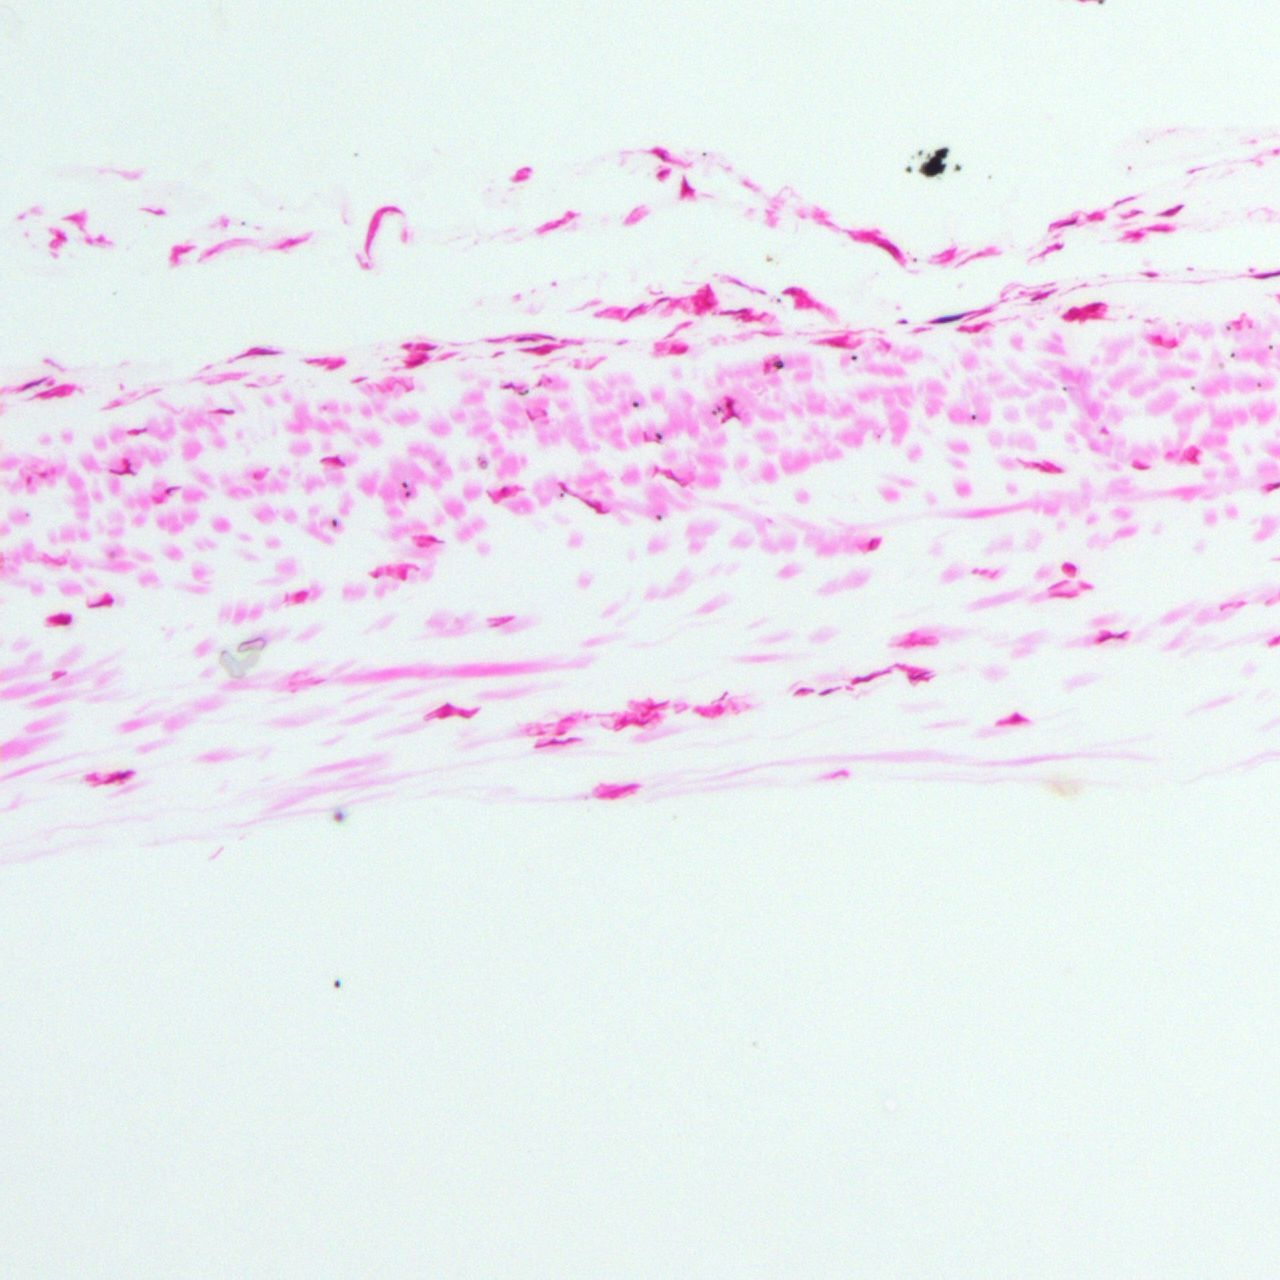dust: (914, 141, 956, 183), (332, 811, 348, 824), (772, 360, 784, 368), (333, 979, 342, 988), (655, 431, 663, 440), (332, 518, 339, 527), (905, 166, 913, 173), (971, 414, 978, 421), (955, 164, 962, 171), (631, 401, 639, 407), (1228, 352, 1235, 358), (402, 482, 408, 488), (656, 515, 662, 520), (910, 154, 915, 159), (912, 256, 917, 263), (1268, 343, 1273, 350), (918, 150, 922, 157), (406, 491, 410, 497), (712, 410, 717, 415), (776, 297, 781, 302), (851, 354, 857, 359), (1226, 325, 1231, 331), (1190, 384, 1194, 390), (1062, 386, 1067, 392), (877, 434, 881, 440), (716, 406, 721, 410), (1257, 381, 1261, 386), (926, 152, 930, 157), (560, 492, 564, 496), (702, 152, 706, 155)
nucleus-FG: (554, 478, 610, 516), (535, 733, 584, 749), (424, 703, 477, 719), (652, 463, 686, 486), (600, 781, 640, 801), (849, 668, 890, 686), (94, 769, 134, 787), (236, 343, 279, 359), (520, 342, 561, 358), (721, 397, 742, 425), (1024, 459, 1065, 474), (994, 712, 1032, 727), (877, 236, 901, 258), (304, 358, 346, 370), (277, 233, 307, 251), (38, 382, 64, 401), (641, 699, 669, 716), (1158, 203, 1186, 220), (908, 668, 935, 686), (20, 375, 48, 392), (1097, 629, 1128, 644), (614, 719, 649, 730), (622, 302, 642, 322), (679, 176, 695, 198), (87, 597, 115, 610), (109, 463, 137, 476), (1046, 578, 1071, 592), (1054, 217, 1078, 231), (1112, 193, 1137, 207), (933, 313, 964, 324), (1029, 290, 1054, 302), (45, 613, 72, 625), (956, 324, 989, 333), (320, 456, 347, 467), (702, 282, 713, 309), (719, 307, 748, 316), (818, 685, 839, 697), (651, 145, 668, 161), (1062, 561, 1077, 579), (821, 338, 849, 347), (794, 685, 813, 697), (1084, 300, 1104, 313), (403, 359, 425, 369), (865, 536, 880, 551), (655, 166, 670, 181), (1049, 240, 1064, 254), (486, 335, 512, 343), (1062, 308, 1080, 320), (1050, 591, 1078, 598), (1148, 226, 1173, 233), (736, 315, 762, 322), (1126, 207, 1142, 219), (781, 286, 799, 295), (535, 332, 556, 340), (127, 428, 147, 436), (653, 295, 668, 306), (423, 535, 440, 543), (165, 485, 181, 493), (215, 408, 234, 414), (675, 346, 689, 354), (291, 591, 309, 597), (399, 568, 406, 583), (499, 486, 508, 498), (372, 570, 381, 579), (516, 338, 535, 342), (425, 343, 437, 350), (1144, 271, 1157, 277), (402, 342, 411, 349), (898, 319, 907, 324)
